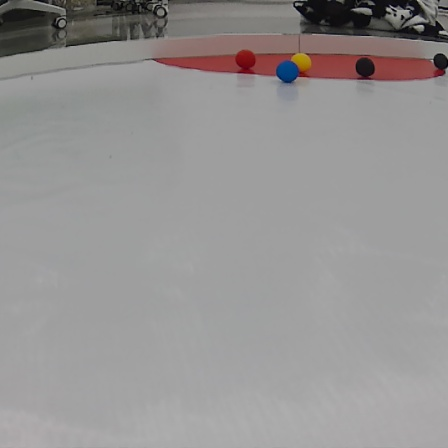black: (354, 54, 378, 79), (431, 50, 448, 71)
blue: (274, 58, 302, 85)
red: (233, 48, 257, 72)
red_base: (151, 50, 447, 83)
yellow: (287, 52, 314, 71)
